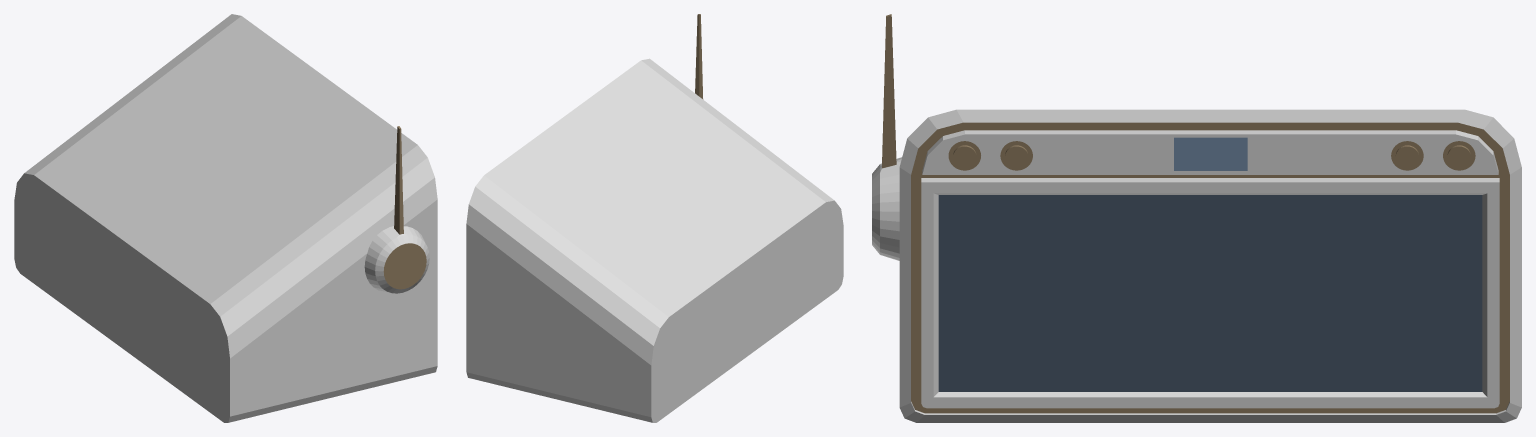
Rendered from Radio-Microwave_01_240112.fbx.
3 renders of one model, left to right at view 1: azimuth 30°, elevation 25°; view 2: azimuth 150°, elevation 25°; view 3: azimuth 270°, elevation 25°, orthographic. The views are drawn at different scales.
Parts seen in each view (by area): view 1: RM-12, Antenna; view 2: RM-12, Antenna; view 3: RM-12, Antenna, Display, Cylinder, Cylinder.003, Cylinder.001, Cylinder.002.
Part boxes in pixels (left/top/right/bottom): RM-12: left=14, top=14, right=437, bottom=422; Antenna: left=364, top=126, right=429, bottom=293; RM-12: left=466, top=58, right=843, bottom=422; Antenna: left=695, top=14, right=703, bottom=99; RM-12: left=899, top=109, right=1521, bottom=422; Antenna: left=872, top=14, right=901, bottom=260; Display: left=1174, top=137, right=1247, bottom=170; Cylinder: left=948, top=141, right=980, bottom=170; Cylinder.003: left=1443, top=141, right=1475, bottom=170; Cylinder.001: left=1000, top=141, right=1032, bottom=170; Cylinder.002: left=1391, top=141, right=1423, bottom=170.
Size of the model in its own units: 211 by 242 by 376.
